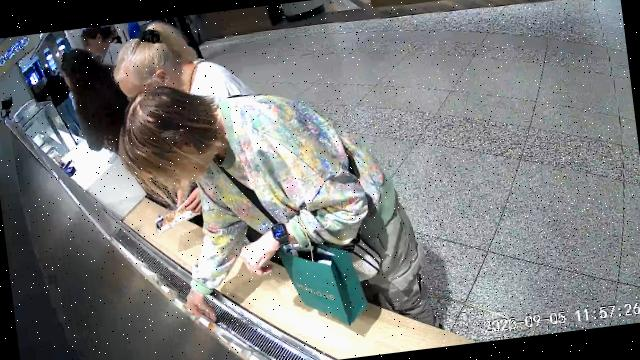sushi-box: (156, 202, 200, 235)
